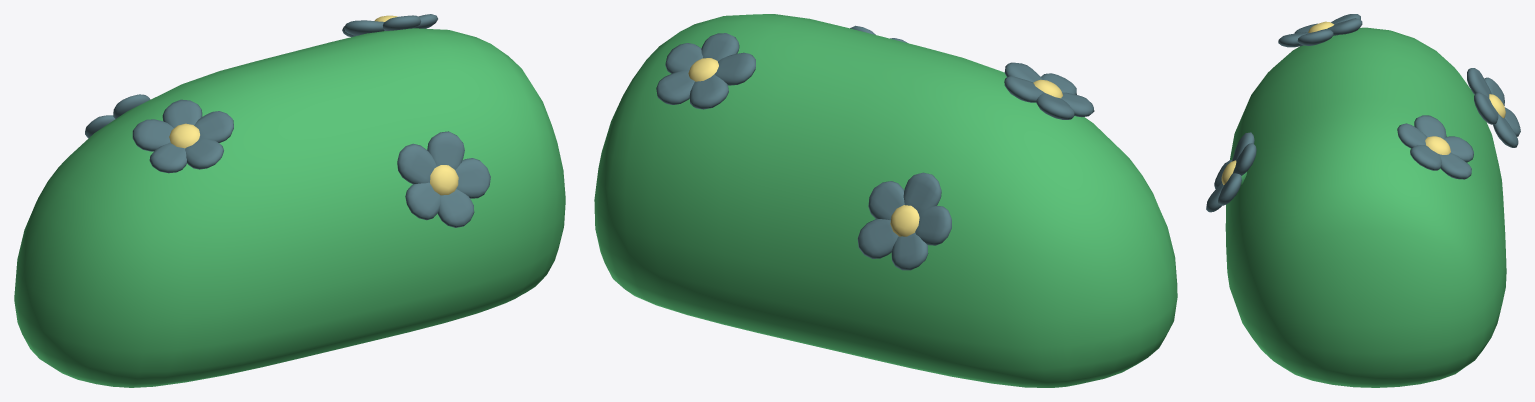
File: FlowerBush_A_03.fbx
The picture shows the model from 3 angles, left to right: view 1: azimuth 30°, elevation 25°; view 2: azimuth 150°, elevation 25°; view 3: azimuth 270°, elevation 25°; orthographic projection. The views are drawn at different scales.
Visible parts, largest first — view 1: FlowerBush_A_03_LOD0; view 2: FlowerBush_A_03_LOD0; view 3: FlowerBush_A_03_LOD0.
Part boxes in pixels (x1=…): FlowerBush_A_03_LOD0: x1=14, y1=14, x2=565, y2=387; FlowerBush_A_03_LOD0: x1=594, y1=14, x2=1177, y2=387; FlowerBush_A_03_LOD0: x1=1206, y1=14, x2=1520, y2=387.
Size of what is drawn, in the model's own units: 860 by 402 by 503.
